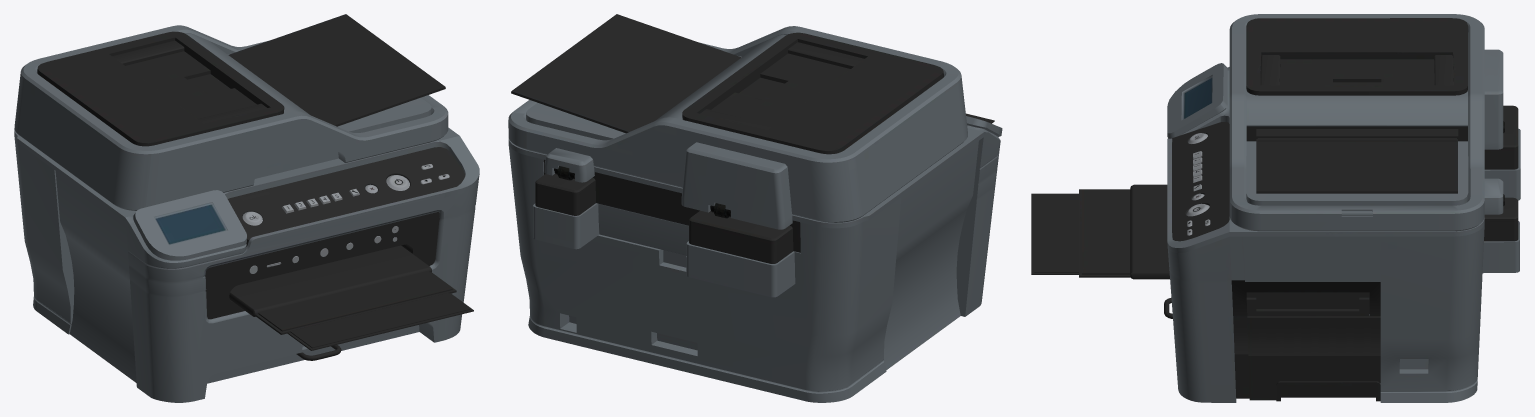
File: fab1.glb
The picture shows the model from 3 angles, left to right: view 1: azimuth 30°, elevation 25°; view 2: azimuth 150°, elevation 25°; view 3: azimuth 270°, elevation 25°; orthographic projection. The views are drawn at different scales.
Visible parts, largest first — view 1: node_id271; view 2: node_id271; view 3: node_id271.
Boxes of the visible parts, x1=… form: node_id271: x1=14, y1=14, x2=479, y2=402; node_id271: x1=508, y1=14, x2=1002, y2=402; node_id271: x1=1031, y1=14, x2=1520, y2=402.
Size of the model in its own units: 0.512 by 0.3446 by 0.6401.
1 material, 1 textured.
